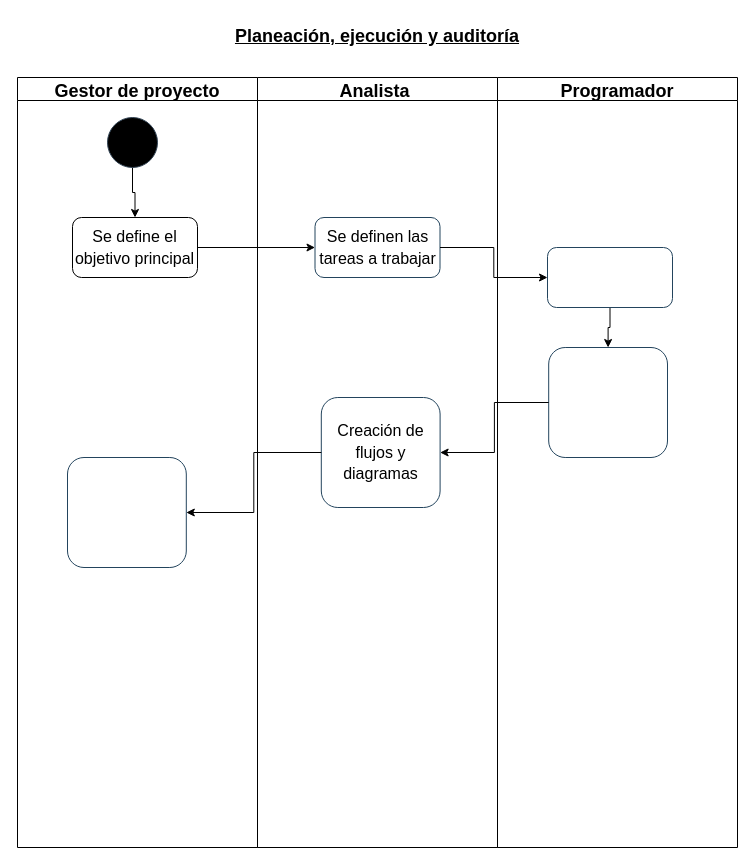
This 755x865 diagram has some shape labels left out. The centre of each missing label's shape, as x and y in pixels:
"Confirmación, creación y asignación de tasks" belongs at pixel 126 512.
"Creación de infraestructura /herramientas a utilizar" belongs at pixel 608 402.
"Se define el tiempo necesario para completarlo" belongs at pixel 609 277.
